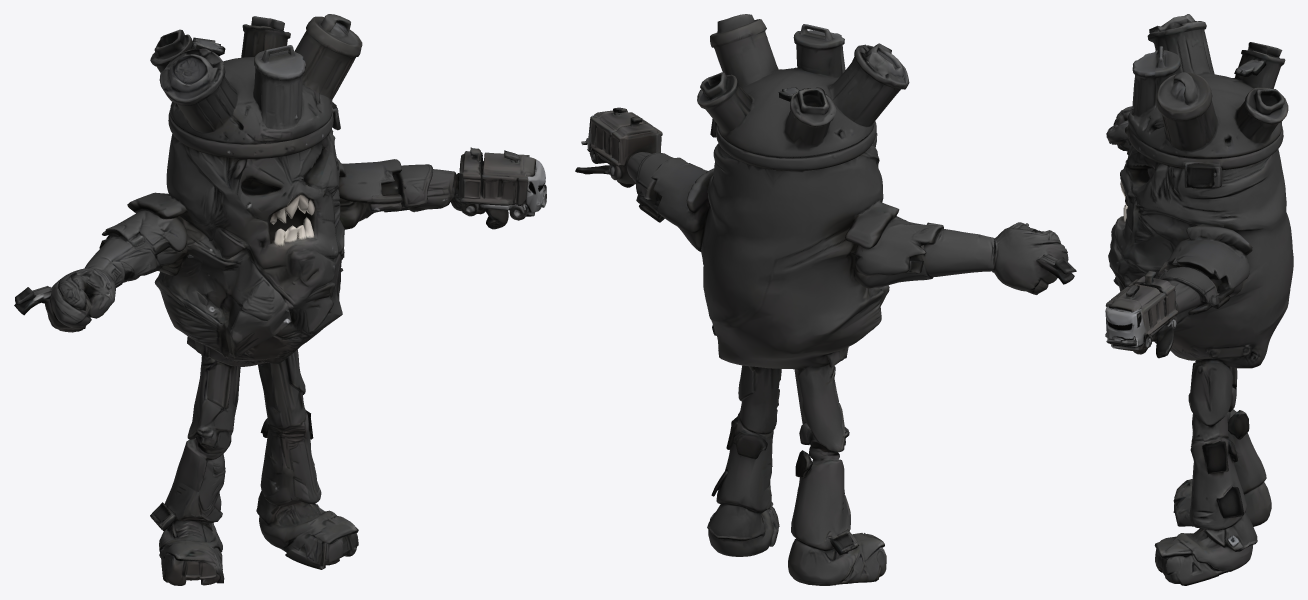
The model's file is the_sanitation_king.glb.
The picture shows the model from 3 angles, left to right: view 1: azimuth 30°, elevation 25°; view 2: azimuth 150°, elevation 25°; view 3: azimuth 270°, elevation 25°; orthographic projection. The views are drawn at different scales.
Parts seen in each view (by area): view 1: the_sanitation_king; view 2: the_sanitation_king; view 3: the_sanitation_king.
Part boxes in pixels (x1,y1,x2,y2): the_sanitation_king: [14, 14, 546, 585]; the_sanitation_king: [575, 14, 1076, 585]; the_sanitation_king: [1105, 14, 1293, 585].
Bounding box in the file's own units: 5.04 × 5 × 1.69.
1 material, 1 textured.
